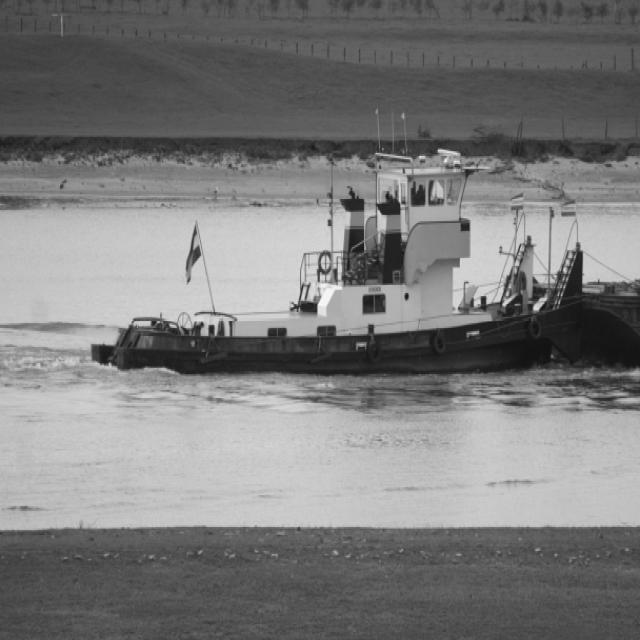tugboat: (83, 132, 593, 391)
